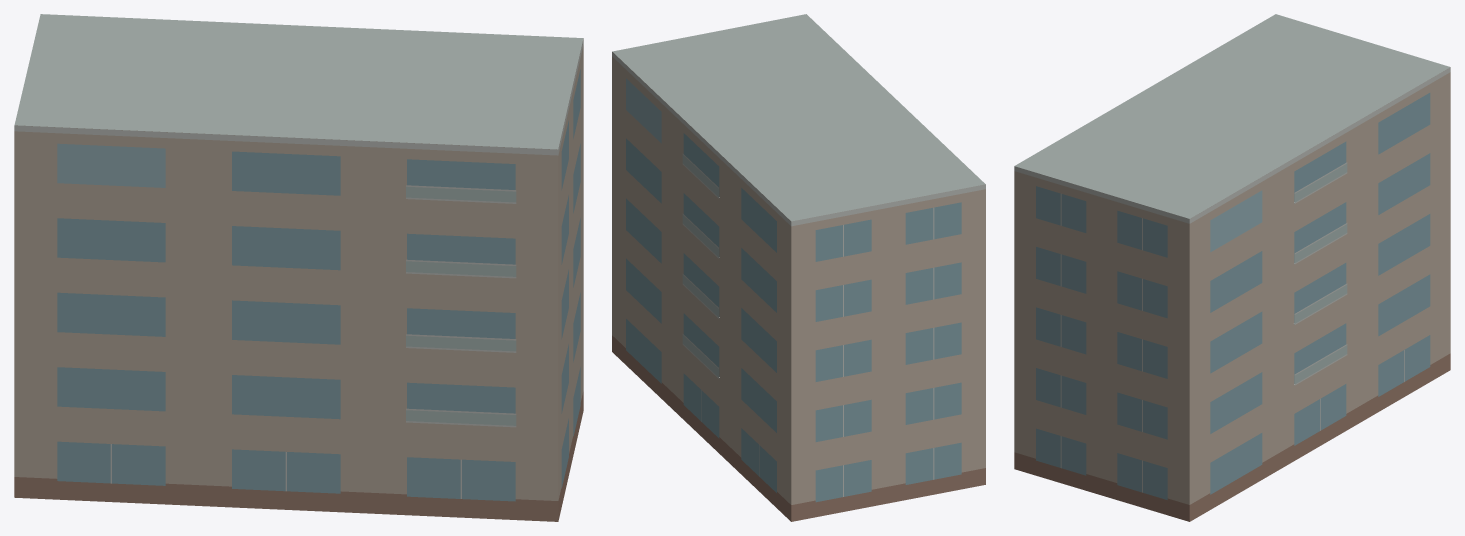
The model's file is survey-upis-32696731.glb.
3 renders of one model, left to right at view 1: azimuth 30°, elevation 25°; view 2: azimuth 150°, elevation 25°; view 3: azimuth 270°, elevation 25°, orthographic. The views are drawn at different scales.
Visible parts, largest first — view 1: survey-upis-32696731.tmp; view 2: survey-upis-32696731.tmp; view 3: survey-upis-32696731.tmp.
Boxes of the visible parts, left/top/right/bottom form: survey-upis-32696731.tmp: left=14, top=14, right=583, bottom=521; survey-upis-32696731.tmp: left=612, top=14, right=985, bottom=521; survey-upis-32696731.tmp: left=1014, top=14, right=1450, bottom=521.
Size of the model in its own units: 21.84 by 15.05 by 19.66.
